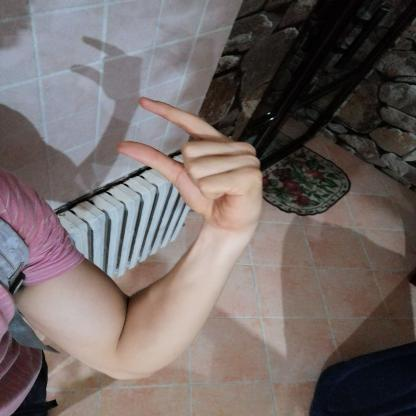DELL: (102, 89, 275, 237)
